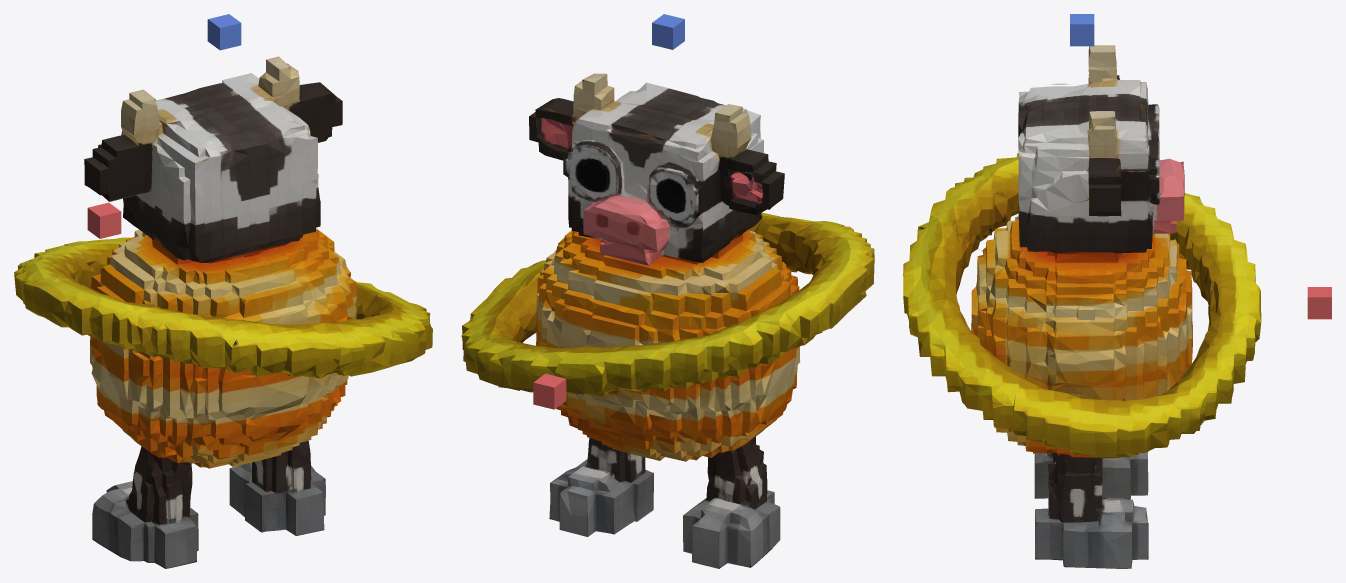
The model's file is LaVacaSaturnoSaturnita.glb.
3 renders of one model, left to right at view 1: azimuth 30°, elevation 25°; view 2: azimuth 150°, elevation 25°; view 3: azimuth 270°, elevation 25°, orthographic.
Parts seen in each view (by area): view 1: LaVacaSaturnoSaturnita_Body, LaVacaSaturnoSaturnita_Leg2, LaVacaSaturnoSaturnita_Leg1, LaVacaSaturnoSaturnita_Front, LaVacaSaturnoSaturnita_Top; view 2: LaVacaSaturnoSaturnita_Body, LaVacaSaturnoSaturnita_Leg2, LaVacaSaturnoSaturnita_Leg1, LaVacaSaturnoSaturnita_Front, LaVacaSaturnoSaturnita_Top; view 3: LaVacaSaturnoSaturnita_Body, LaVacaSaturnoSaturnita_Leg1, LaVacaSaturnoSaturnita_Leg2, LaVacaSaturnoSaturnita_Front, LaVacaSaturnoSaturnita_Top.
Part boxes in pixels (left/top/right/bottom): LaVacaSaturnoSaturnita_Body: left=14, top=56, right=432, bottom=519; LaVacaSaturnoSaturnita_Leg2: left=92, top=466, right=198, bottom=568; LaVacaSaturnoSaturnita_Leg1: left=229, top=440, right=325, bottom=535; LaVacaSaturnoSaturnita_Front: left=87, top=202, right=121, bottom=238; LaVacaSaturnoSaturnita_Top: left=207, top=14, right=241, bottom=50; LaVacaSaturnoSaturnita_Body: left=461, top=73, right=874, bottom=476; LaVacaSaturnoSaturnita_Leg2: left=683, top=446, right=780, bottom=568; LaVacaSaturnoSaturnita_Leg1: left=549, top=438, right=653, bottom=536; LaVacaSaturnoSaturnita_Front: left=533, top=373, right=566, bottom=409; LaVacaSaturnoSaturnita_Top: left=652, top=14, right=684, bottom=49; LaVacaSaturnoSaturnita_Body: left=903, top=45, right=1261, bottom=477; LaVacaSaturnoSaturnita_Leg1: left=1035, top=464, right=1148, bottom=568; LaVacaSaturnoSaturnita_Leg2: left=1034, top=452, right=1148, bottom=499; LaVacaSaturnoSaturnita_Front: left=1307, top=287, right=1331, bottom=319; LaVacaSaturnoSaturnita_Top: left=1070, top=14, right=1094, bottom=46.
Size of the model in its own units: 4.32 by 5.72 by 4.41.
Materials: 1 (1 with a texture image).
